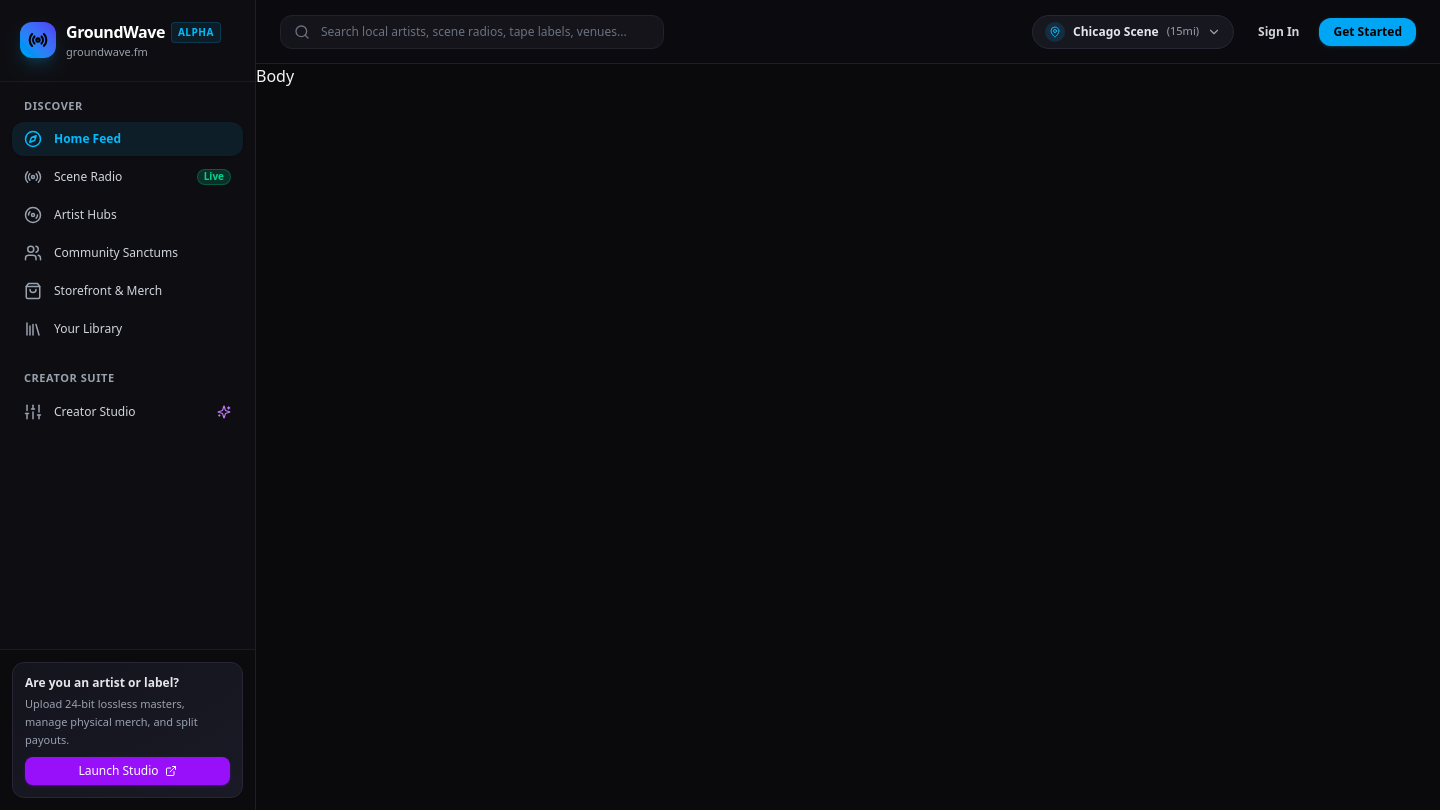
Test: AppShell & Layout Components › opens auth modal on register tab when clicking Get Started
Click the button "Get Started".
click(1368, 32)  # box [1320,18,1416,46]
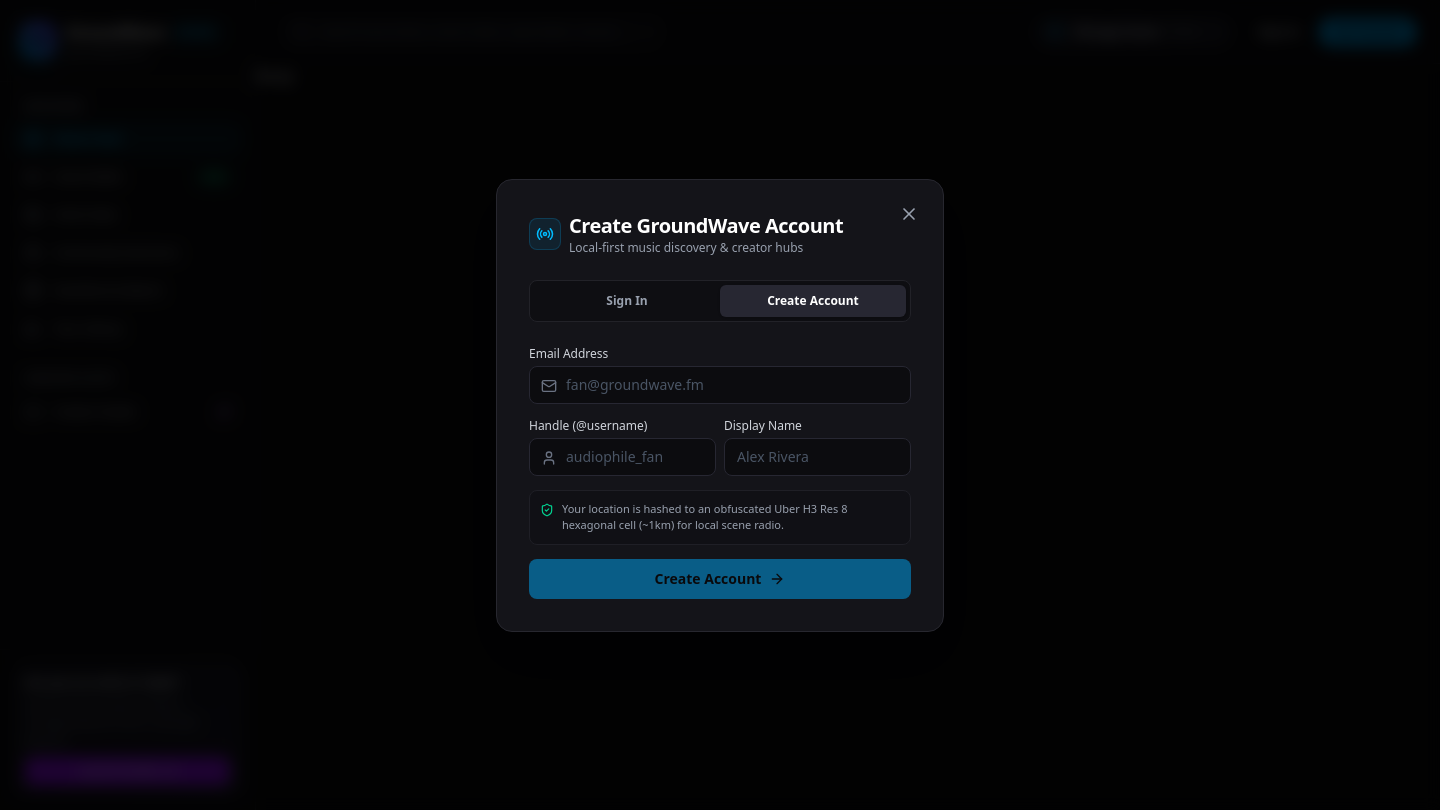
Expected: the dialog is shown
Expected: the heading "Create GroundWave Account" is shown, [569,212,843,240]
